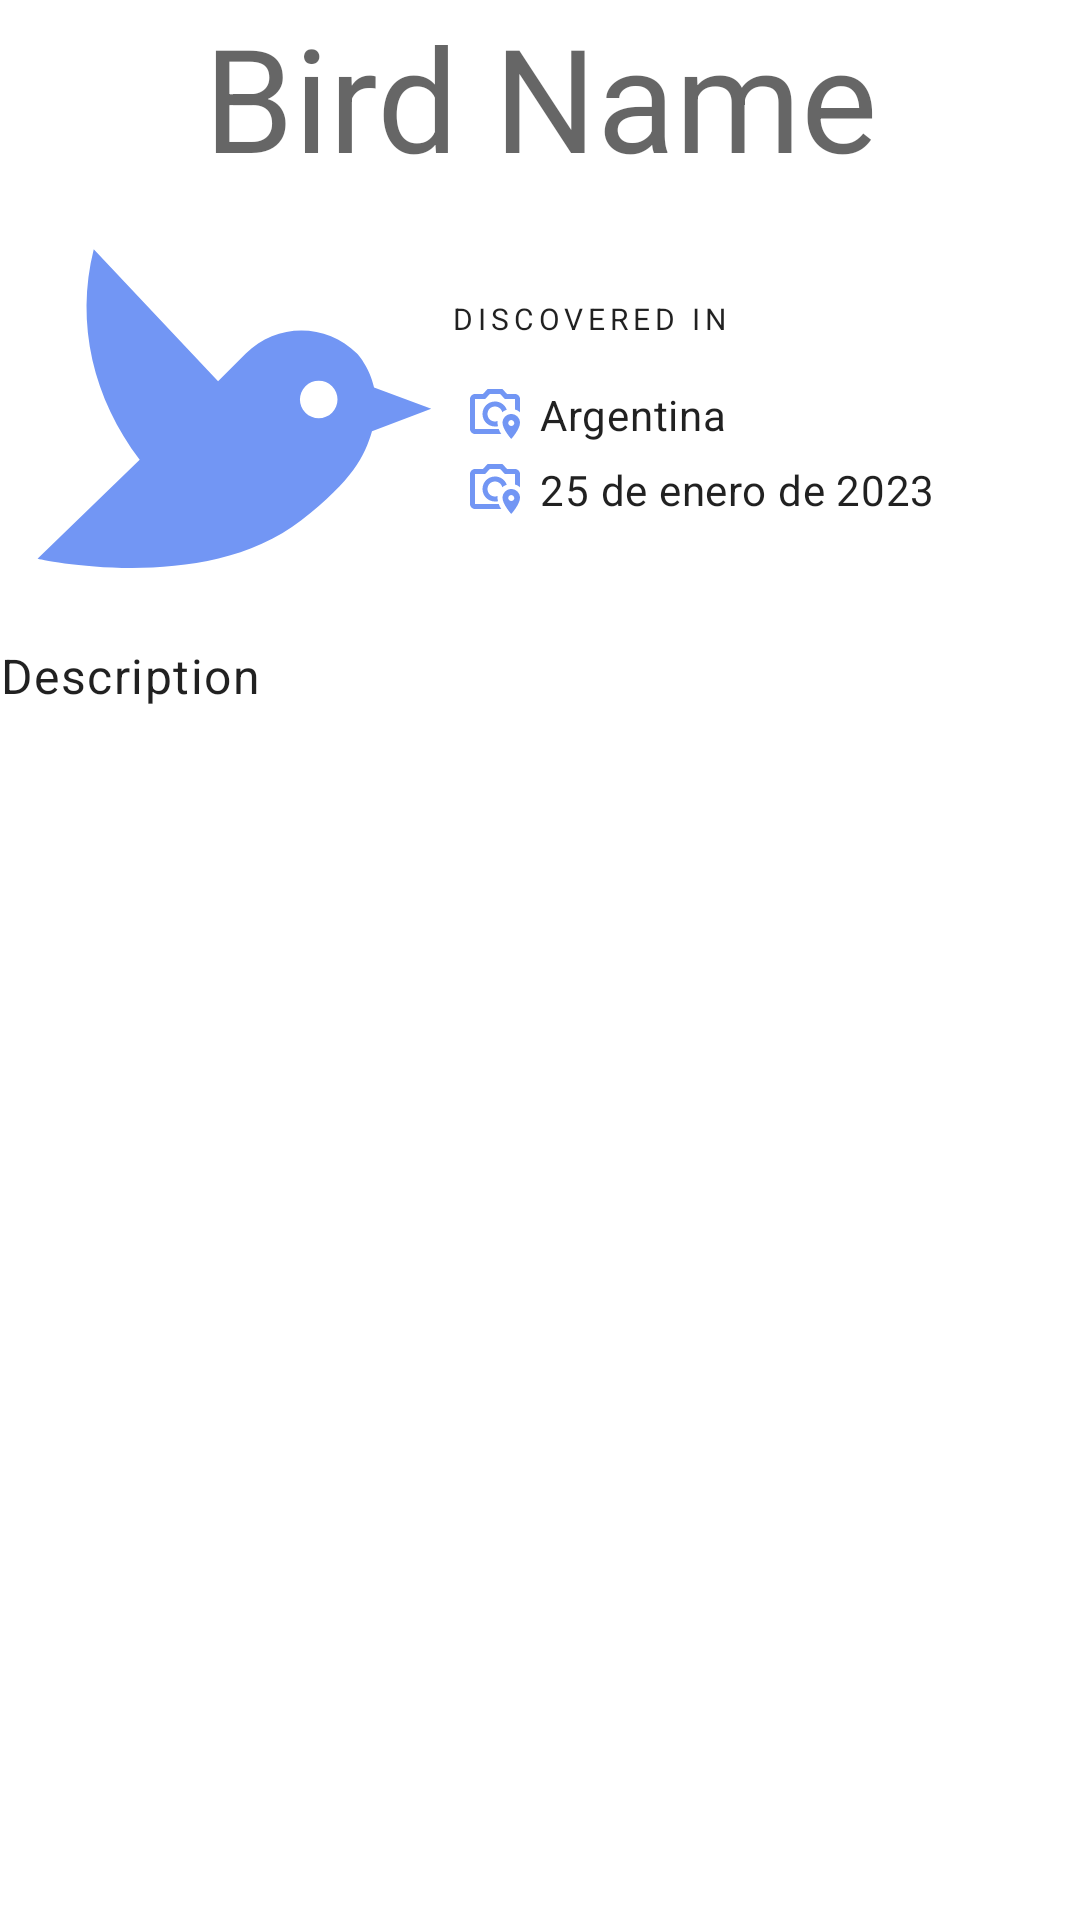

Where to tap for icons on this 1080 x 1920 app screen, as (x=x, y=y):
location: (x=495, y=414), (x=495, y=489)
